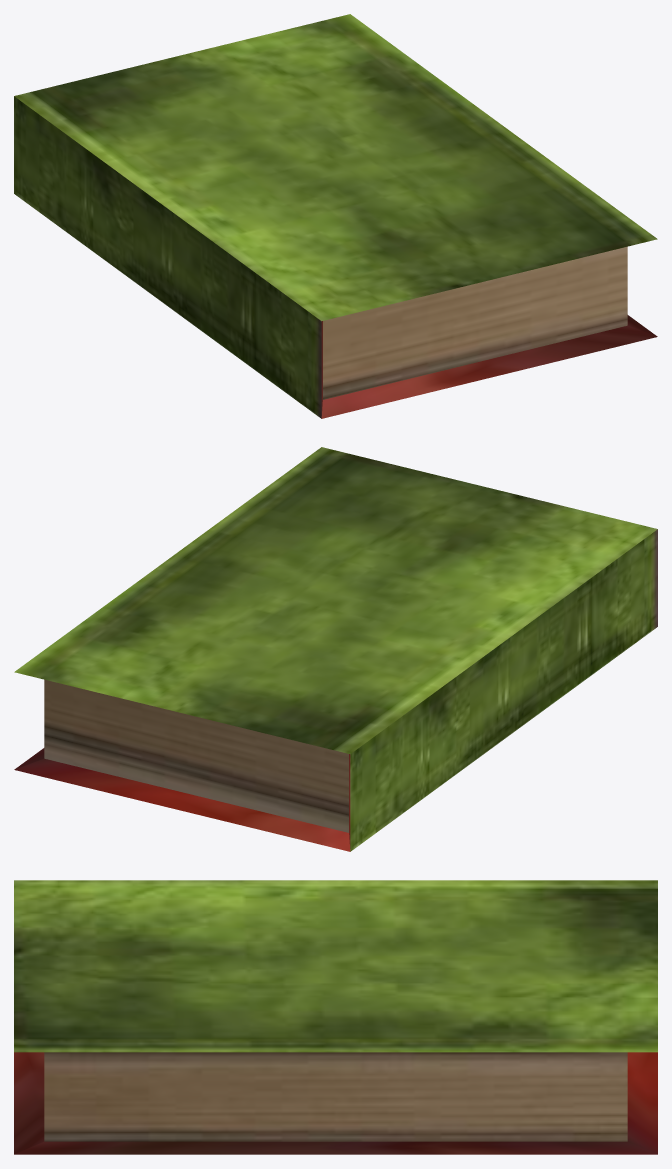
Rendered from Book 2.fbx.
The picture shows the model from 3 angles, top to bottom: view 1: azimuth 30°, elevation 25°; view 2: azimuth 150°, elevation 25°; view 3: azimuth 270°, elevation 25°; orthographic projection. The views are drawn at different scales.
Visible parts, largest first — view 1: Libro 2; view 2: Libro 2; view 3: Libro 2.
Boxes of the visible parts, <box> form: Libro 2: <box>14,14,657,418</box>; Libro 2: <box>14,447,657,851</box>; Libro 2: <box>14,880,657,1154</box>.
Size of the model in its own units: 126 by 35.04 by 200.
